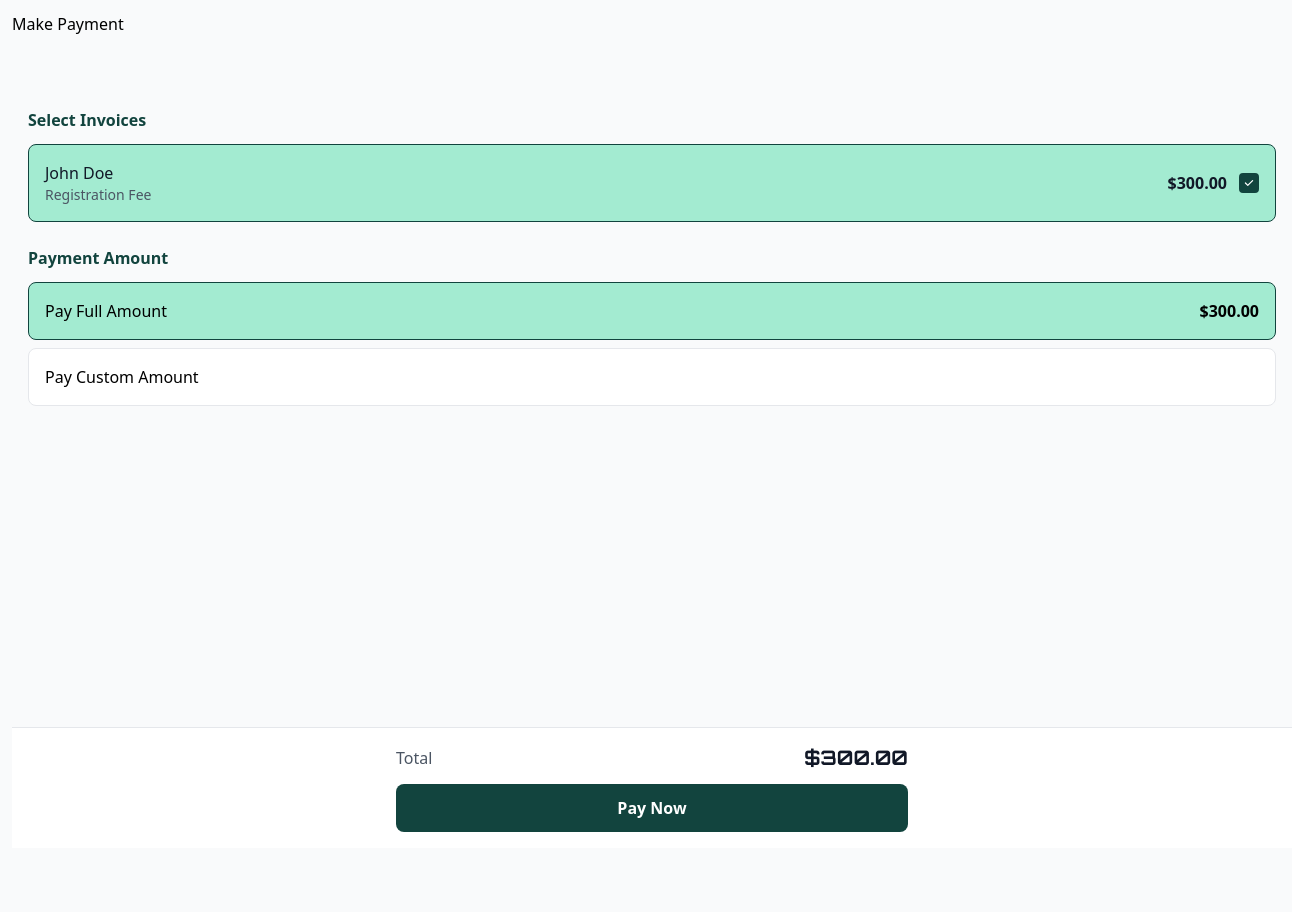
Test: MakePaymentPage payment flow (PAR-17) › surfaces a server error and does not navigate
The image size is (1292, 912).
Click the button "Pay Now" at (652, 808), box [396, 784, 908, 832]
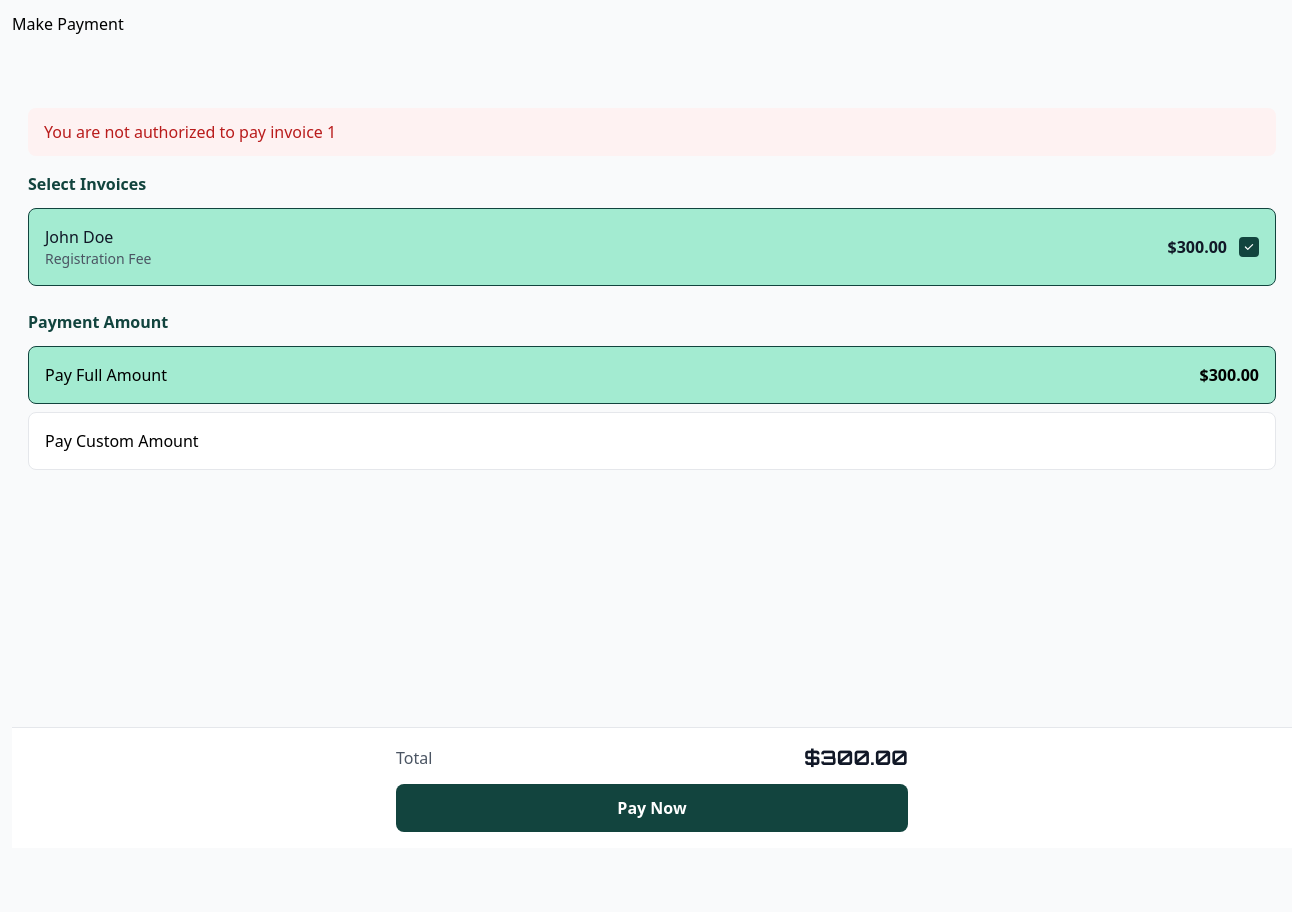
Expected: the text "You are not authorized to pay invoice 1" is shown, [28, 108, 1276, 156]
